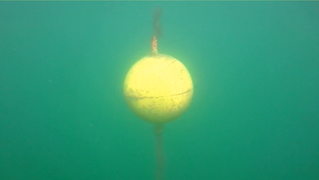buoy: (122, 54, 194, 124)
